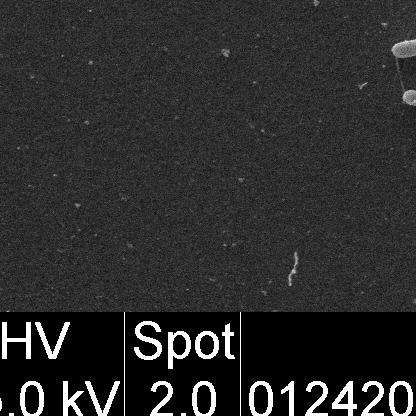regular: (391, 19, 416, 58), (400, 88, 416, 113)
